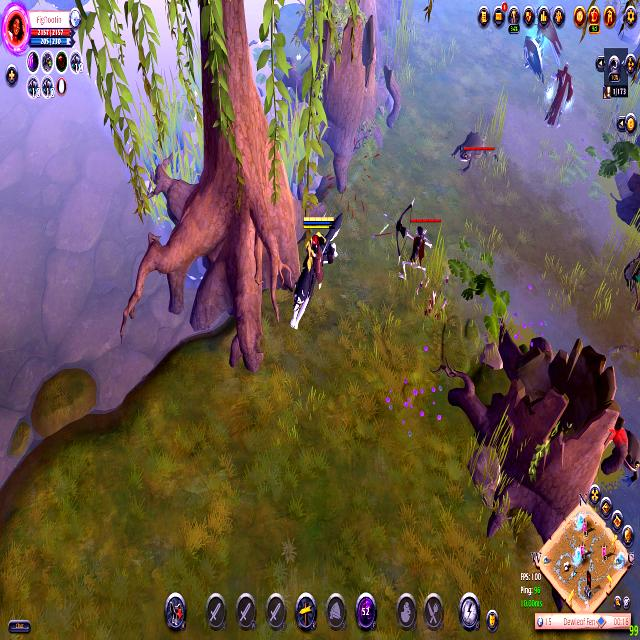ore: (389, 195, 438, 299), (521, 0, 562, 85), (450, 126, 492, 187), (543, 55, 576, 132), (607, 404, 640, 475)
red: (284, 203, 343, 338)
